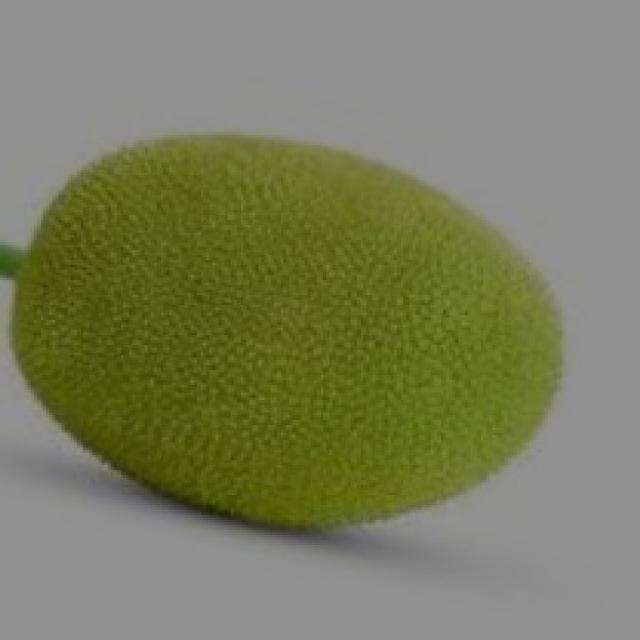Fruit: (228, 120, 597, 535)
